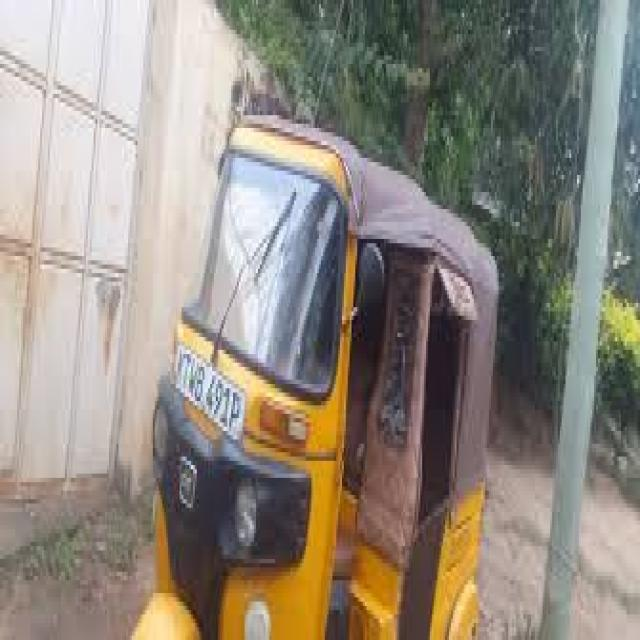tuktuk: (129, 53, 530, 640)
